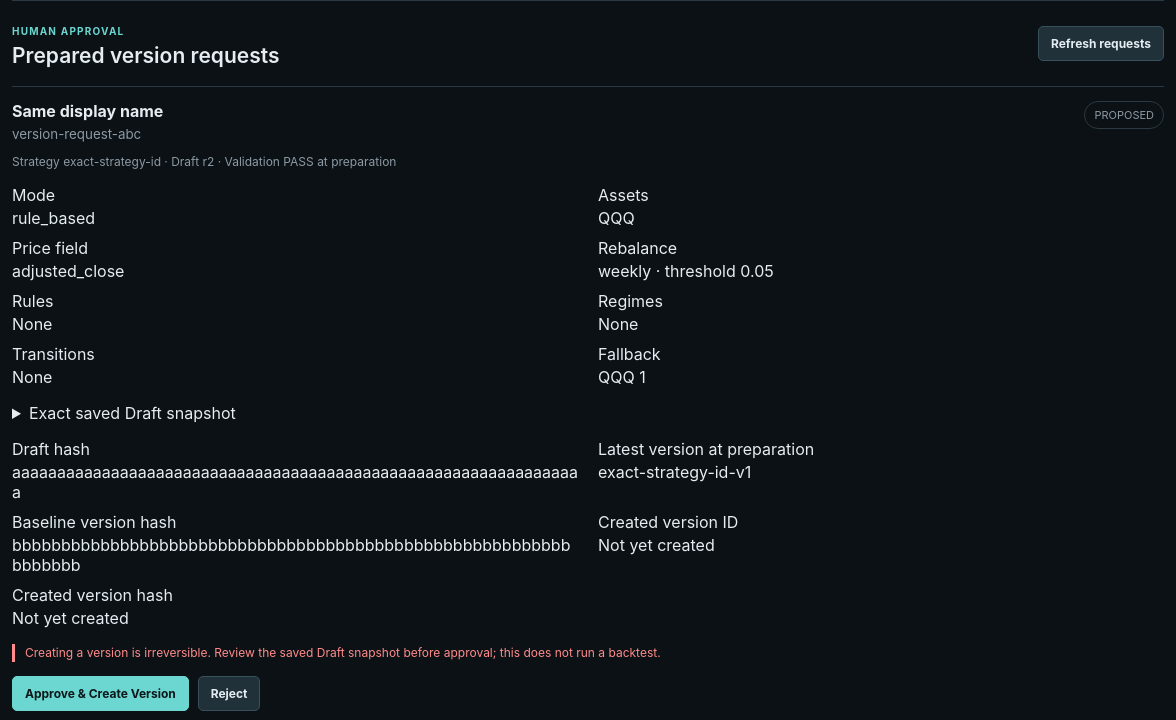
Scenario: controlled version requests › rejects without creating a version
This screenshot has width=1176, height=720.
Click the button "Reject" at [229, 694], box 198,676 -> 260,711
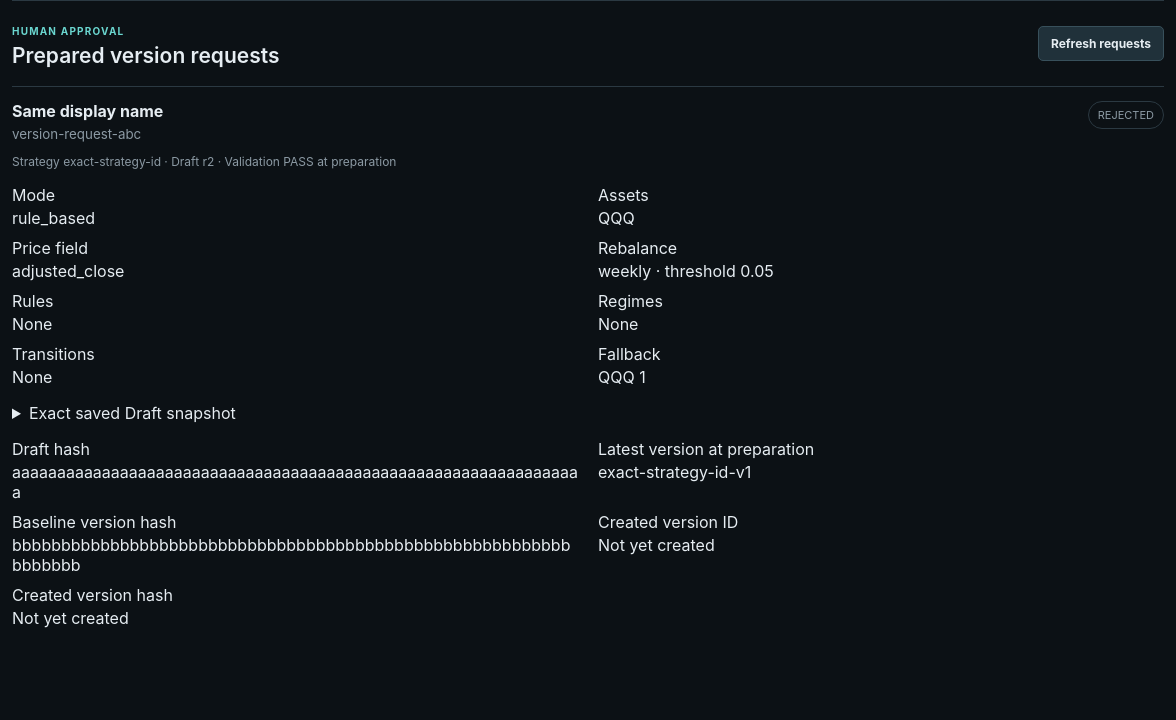
Expected: the text "REJECTED" is shown, 1088,101 -> 1164,129
